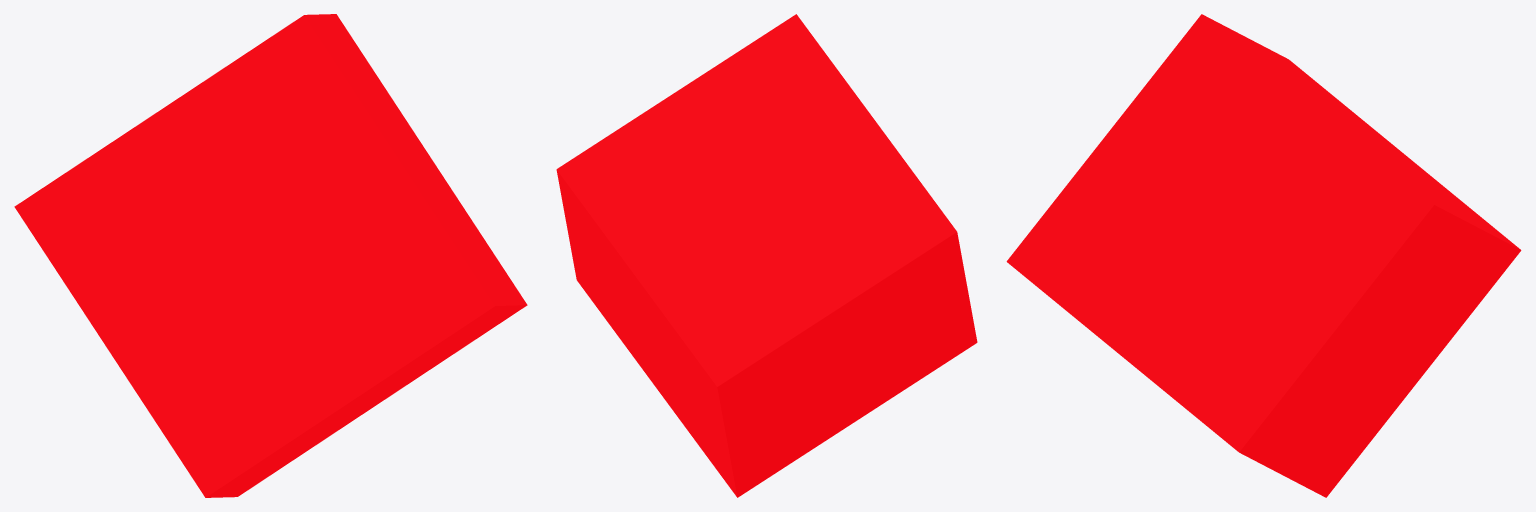
3 renders of one model, left to right at view 1: azimuth 30°, elevation 25°; view 2: azimuth 150°, elevation 25°; view 3: azimuth 270°, elevation 25°, orthographic. The views are drawn at different scales.
Parts seen in each view (by area): view 1: Cube; view 2: Cube; view 3: Cube.
Part boxes in pixels (box(x1,y1,x2,y2)): Cube: box(14, 14, 527, 497); Cube: box(556, 14, 977, 497); Cube: box(1006, 14, 1521, 497).
Bounding box in the file's own units: 1.43 × 1.5 × 1.45.
